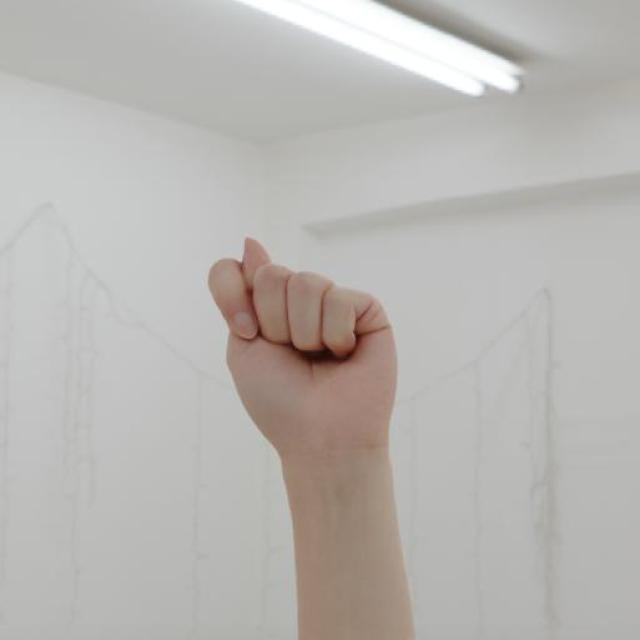T: (200, 233, 405, 464)
